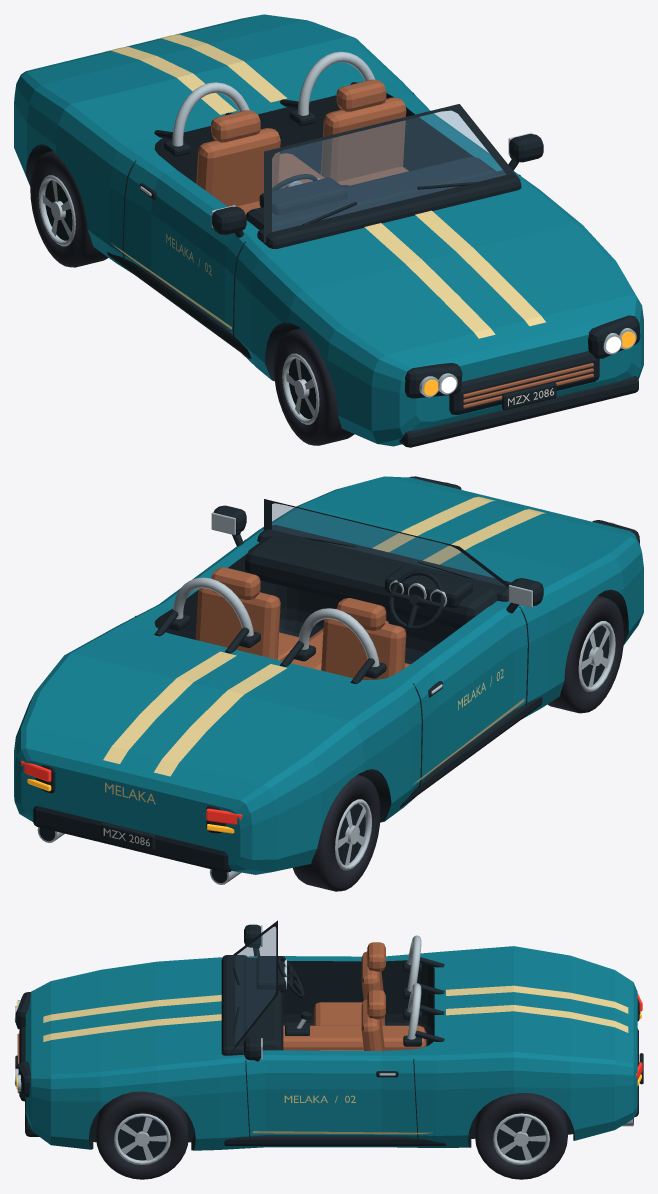
The picture shows the model from 3 angles, top to bottom: view 1: azimuth 30°, elevation 25°; view 2: azimuth 150°, elevation 25°; view 3: azimuth 270°, elevation 25°; orthographic projection. The views are drawn at different scales.
Visible parts, largest first — view 1: Melaka 02 Open Tourer; view 2: Melaka 02 Open Tourer; view 3: Melaka 02 Open Tourer.
Part boxes in pixels (<box>): Melaka 02 Open Tourer: <box>14,14,643,447</box>; Melaka 02 Open Tourer: <box>14,476,643,891</box>; Melaka 02 Open Tourer: <box>14,920,643,1179</box>.
Size of the model in its own units: 1.89 by 1.2 by 4.07.
